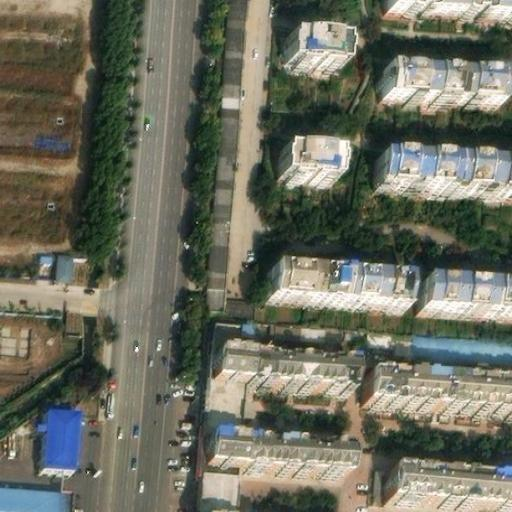building: (206, 0, 248, 300), (197, 315, 249, 512), (209, 431, 355, 473), (255, 316, 412, 355), (266, 262, 401, 306), (369, 370, 512, 411), (373, 153, 512, 193), (217, 349, 359, 388), (394, 464, 512, 505), (382, 64, 500, 102), (417, 275, 512, 312), (410, 328, 512, 362), (38, 401, 84, 462), (284, 31, 347, 64), (276, 145, 339, 177), (386, 0, 512, 15), (51, 252, 74, 283)
